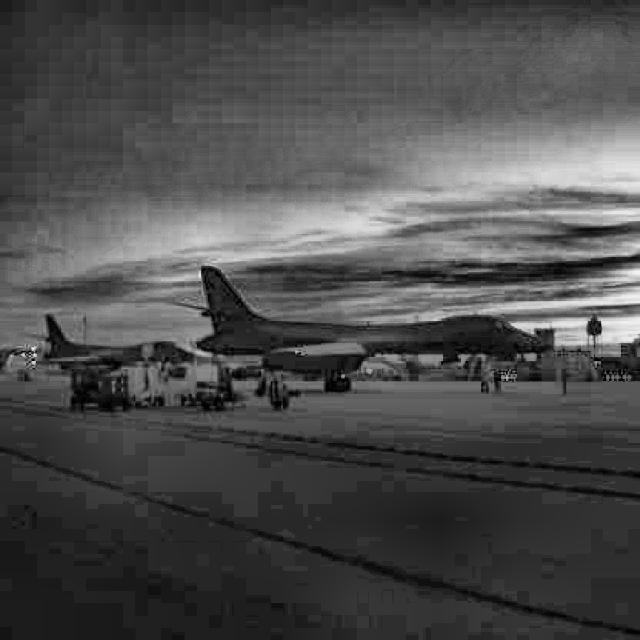B1: (168, 266, 555, 392), (21, 315, 199, 383)
